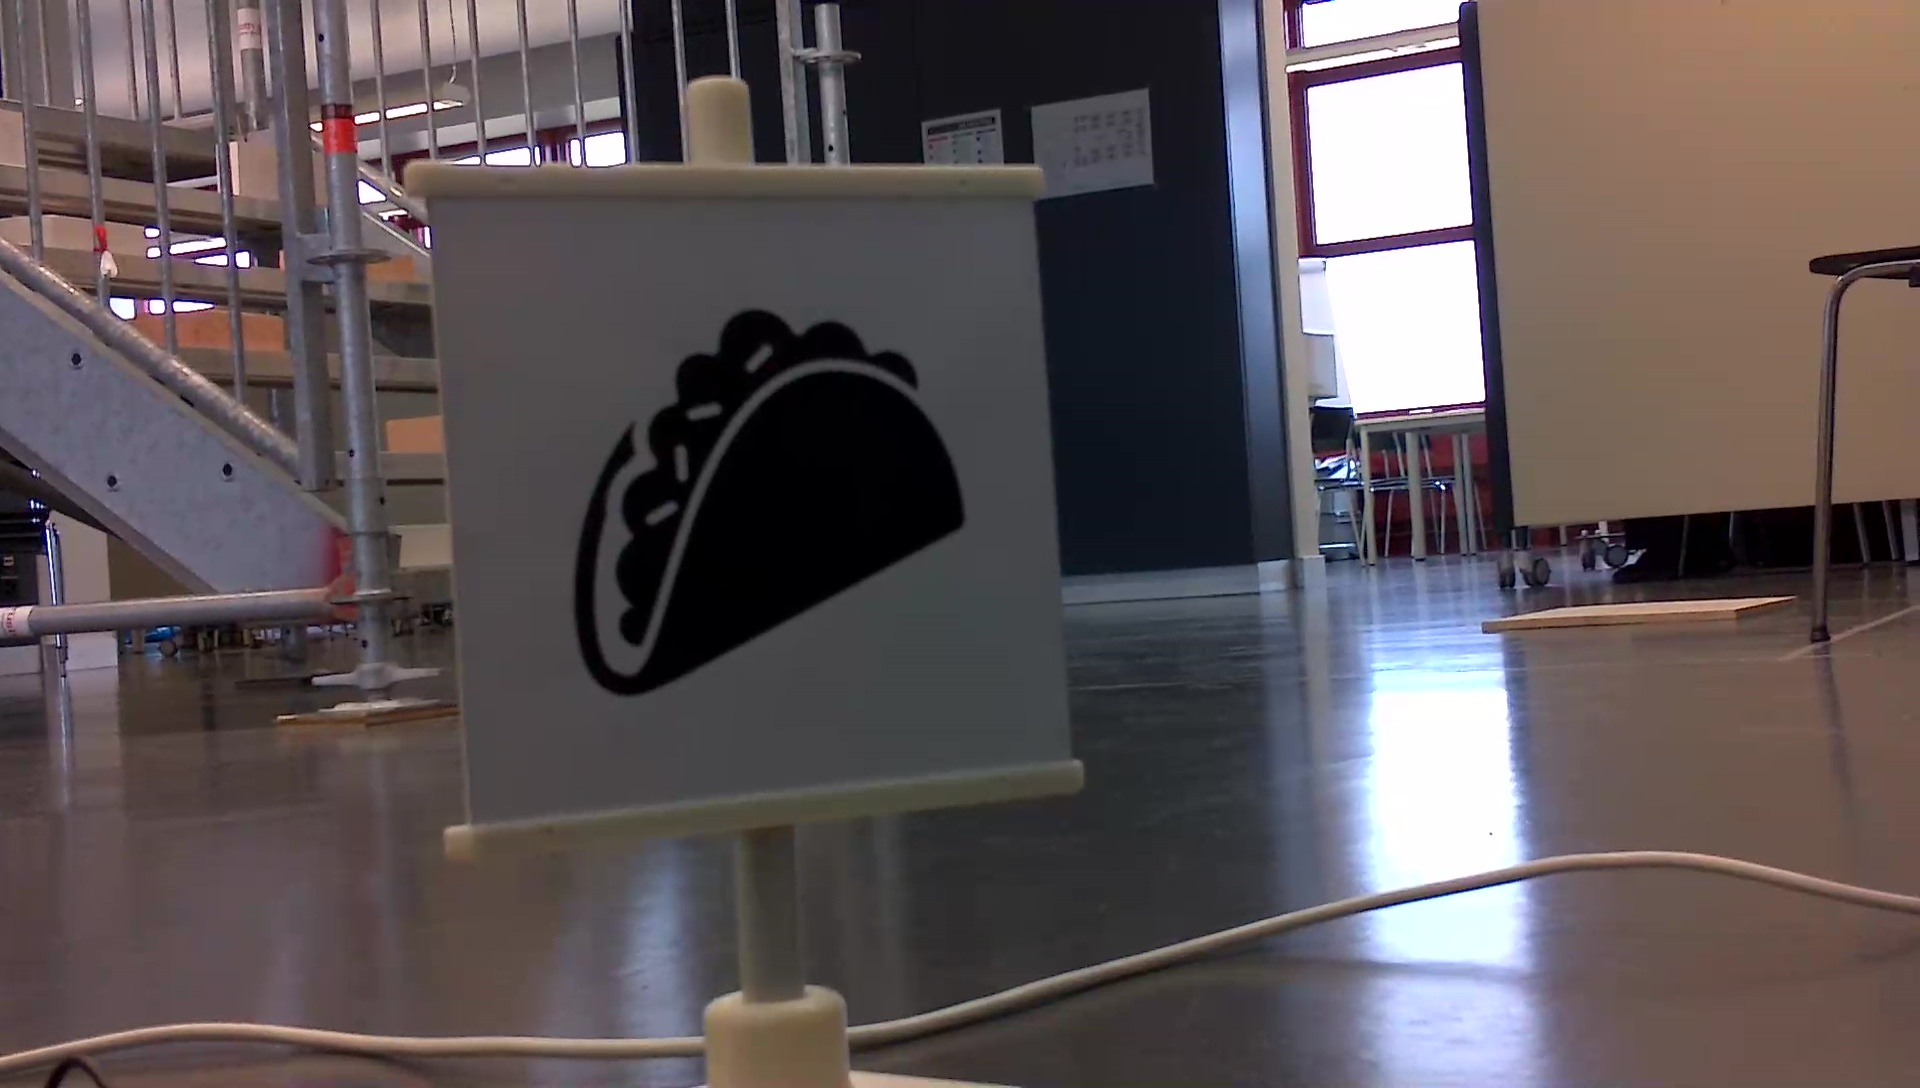brick: (392, 525, 452, 566), (388, 415, 440, 454)
taco: (555, 298, 980, 703)
